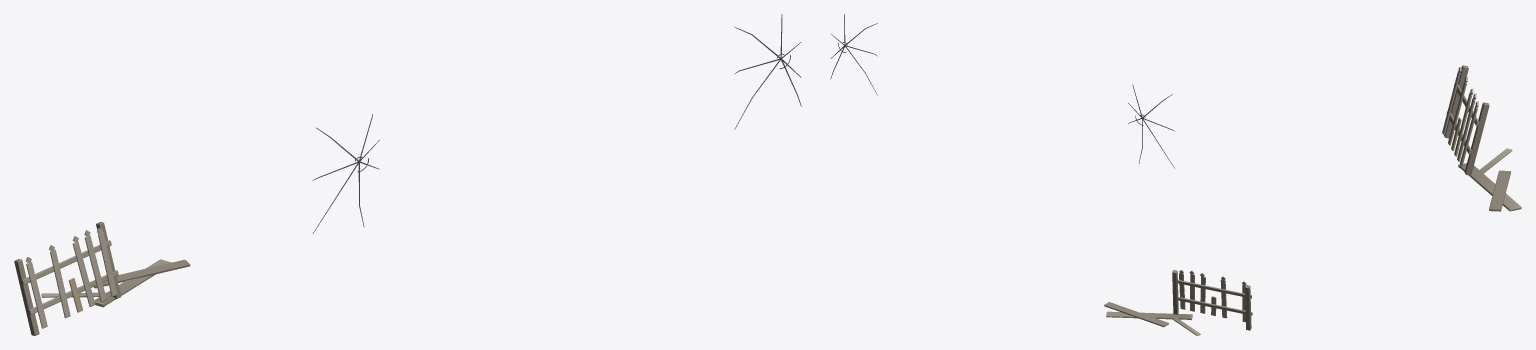
The model's file is house_worn_manor.glb.
3 views of the same model, side by side, from view 1: azimuth 30°, elevation 25°; view 2: azimuth 150°, elevation 25°; view 3: azimuth 270°, elevation 25° (orthographic). The views are drawn at different scales.
Size of the model in its own units: 9.5 by 2.94 by 2.98.
